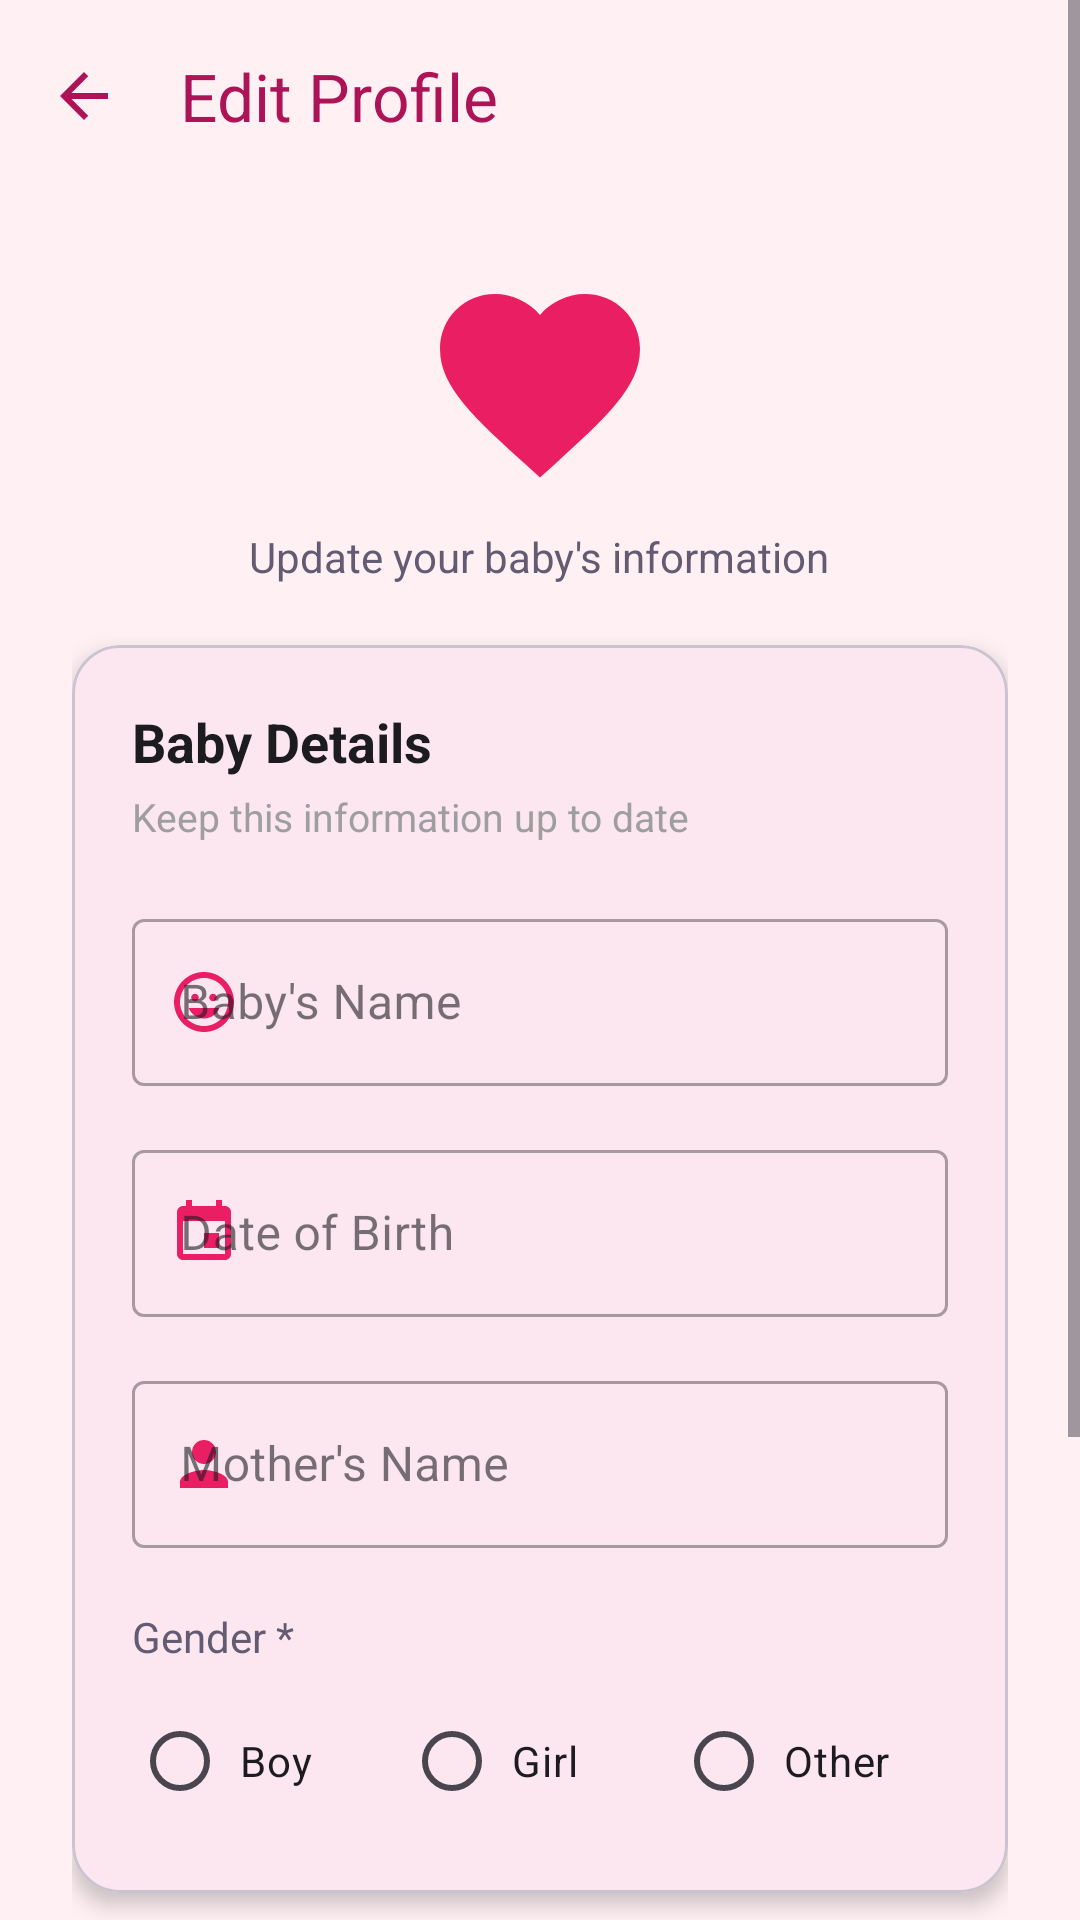

Icon bounding boxes for this 1080x1920 phone screenshot, format (x1, y1, x2, y2):
Welcome illustration: (440, 294, 640, 478)
